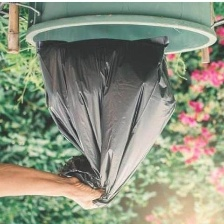plastic_bag: (26, 33, 179, 211)
